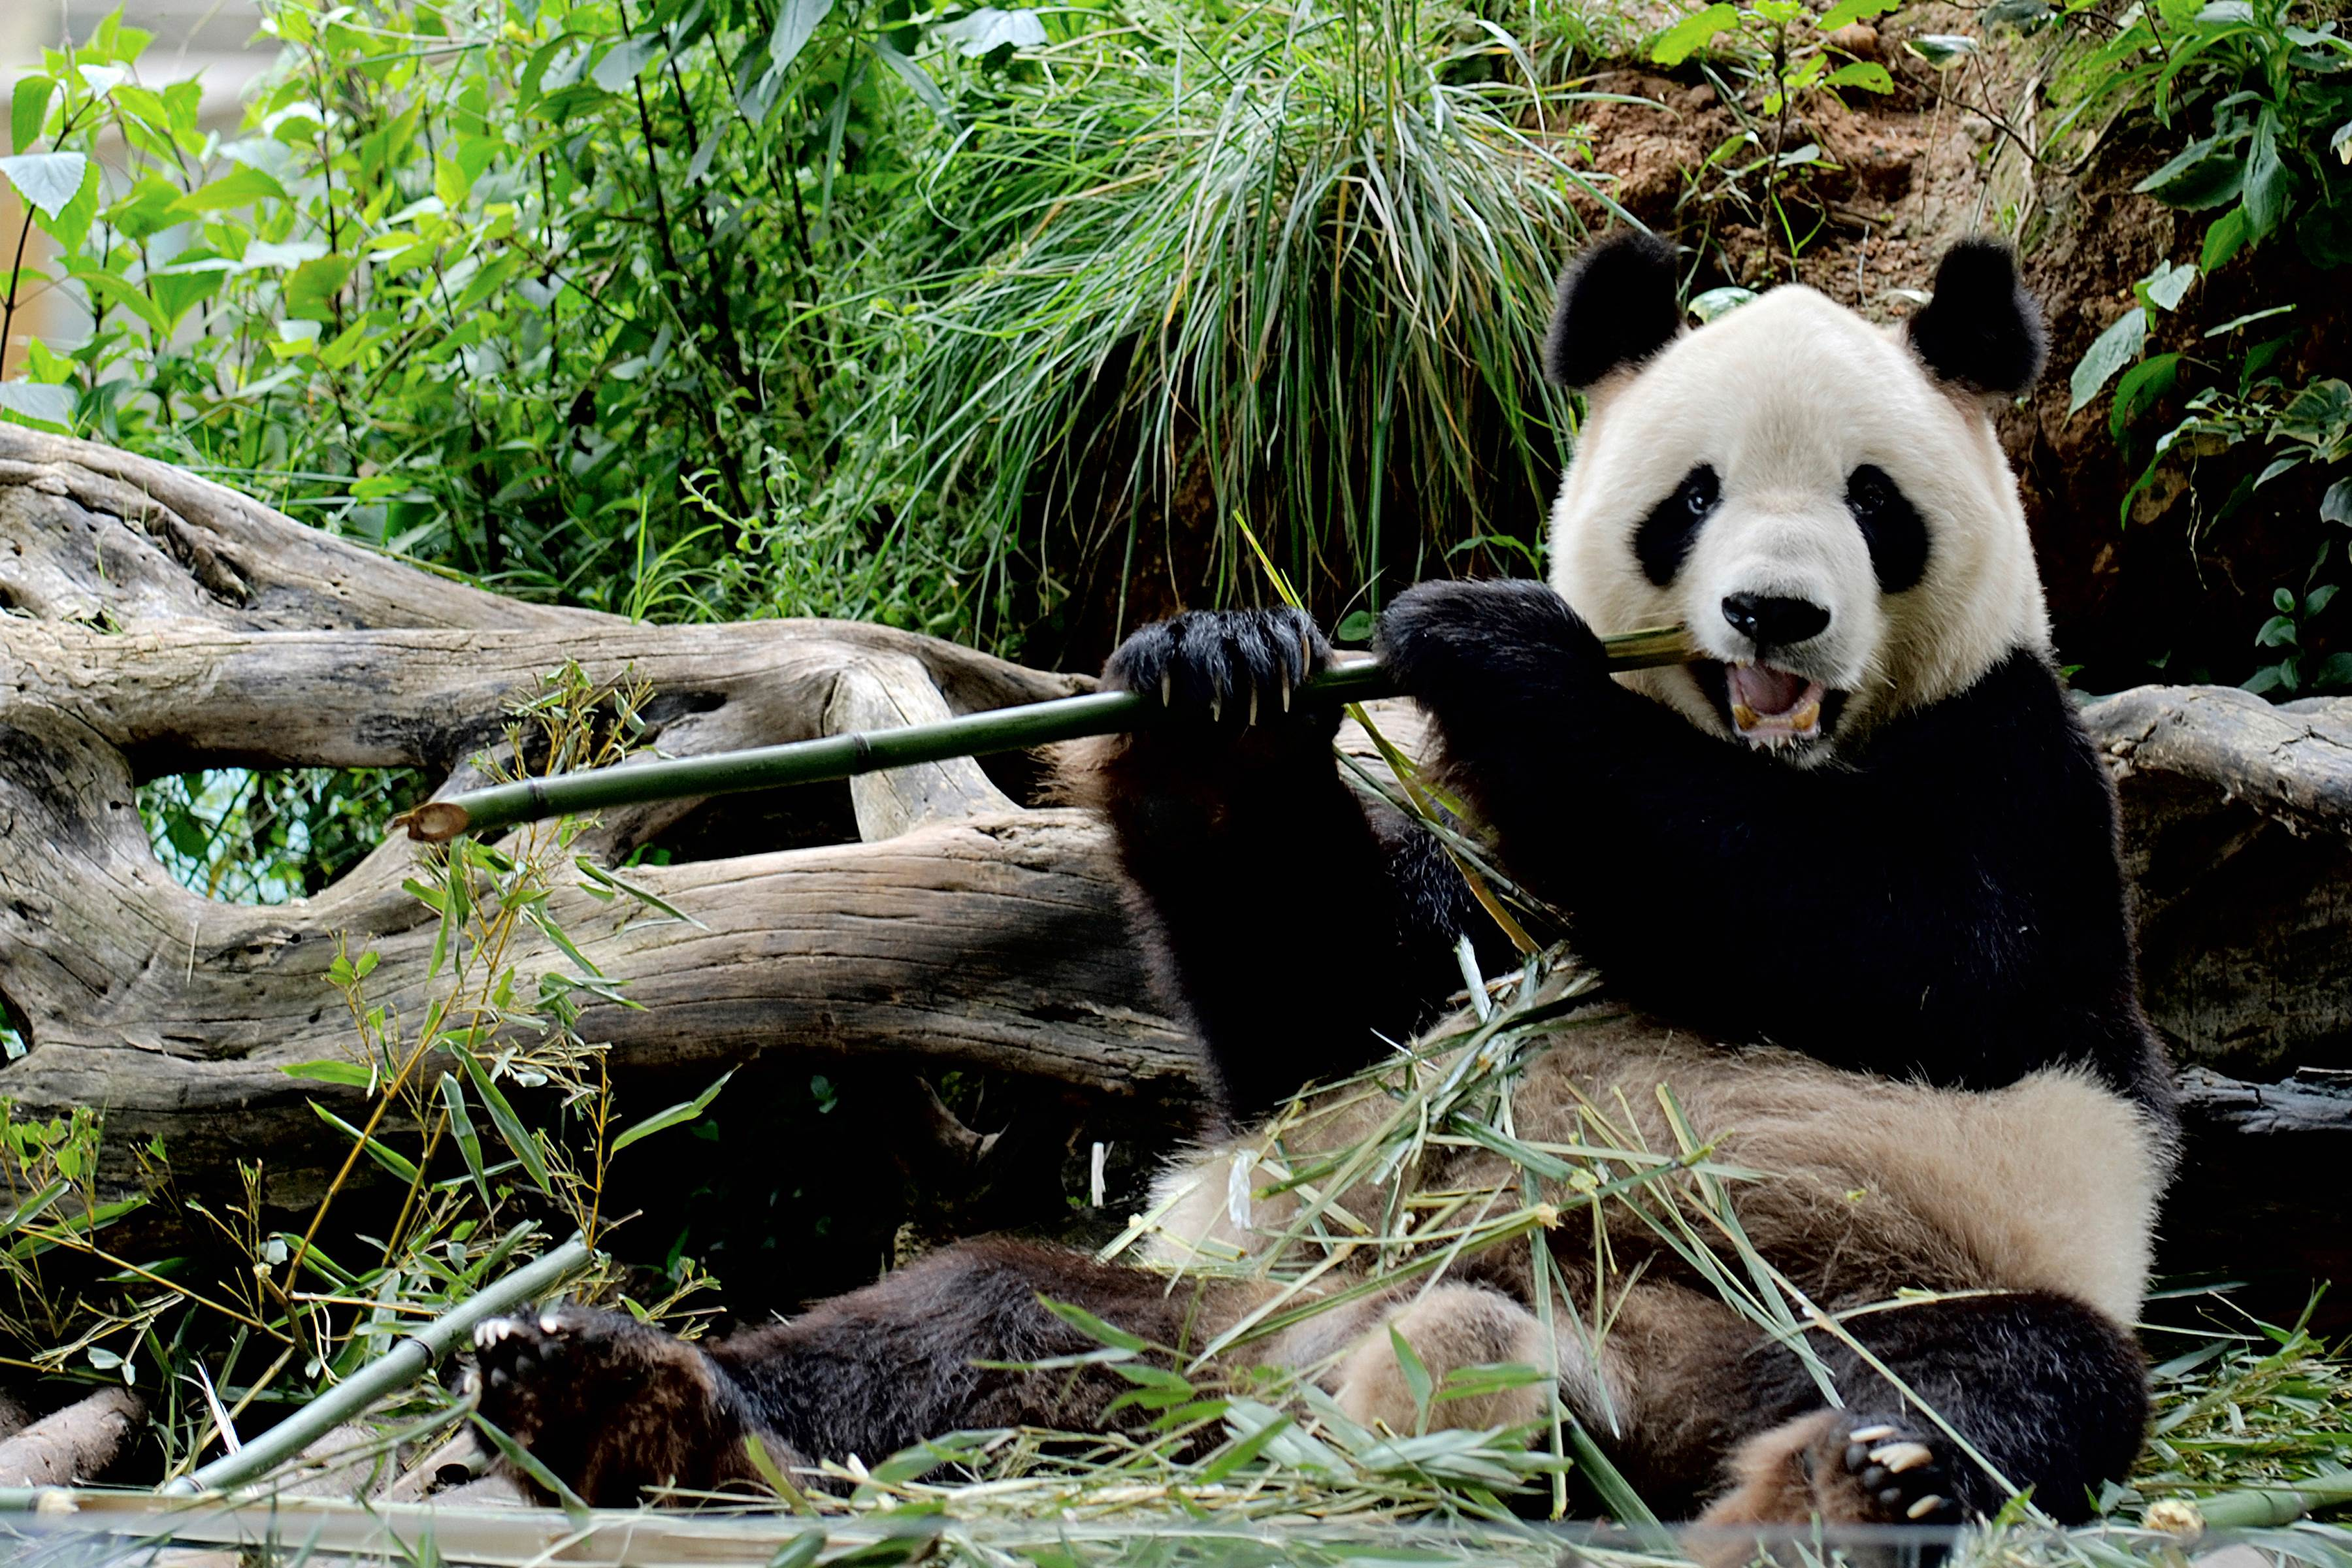panda: (810, 94, 2203, 1515)
